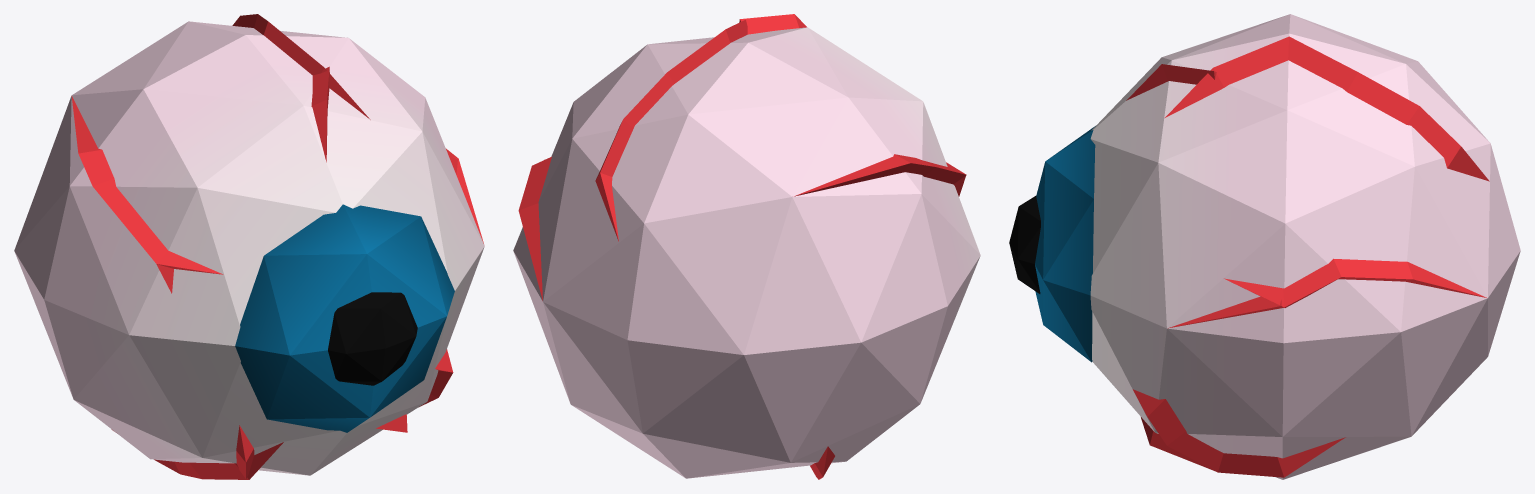
Rendered from eye.FBX.
3 renders of one model, left to right at view 1: azimuth 30°, elevation 25°; view 2: azimuth 150°, elevation 25°; view 3: azimuth 270°, elevation 25°, orthographic.
Visible parts, largest first — view 1: eye; view 2: eye; view 3: eye.
Boxes of the visible parts, x1,y1,x2,y2 form: eye: (14,14,484,479); eye: (513,14,980,479); eye: (1009,14,1520,479).
Size of the model in its own units: 0.2141 by 0.2161 by 0.2317.
